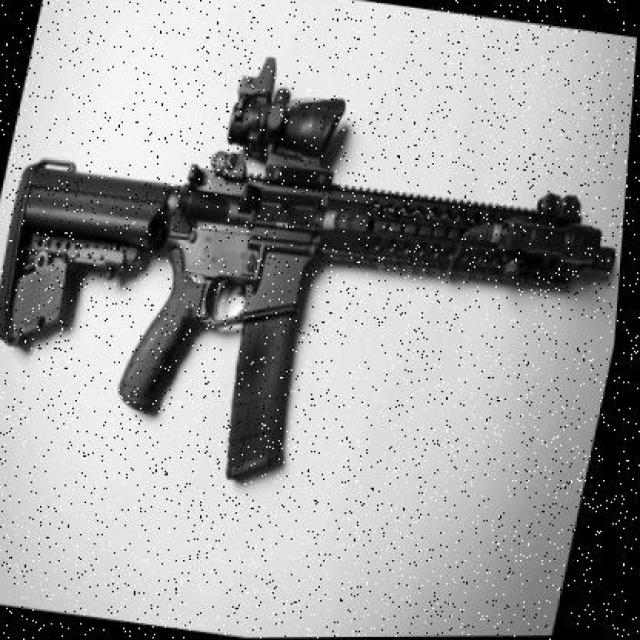weapon: (0, 57, 617, 486)
